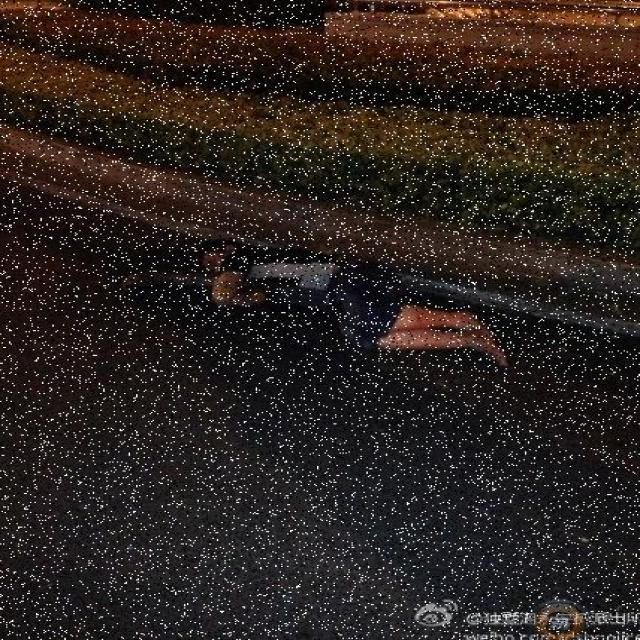fall: (128, 237, 524, 361)
